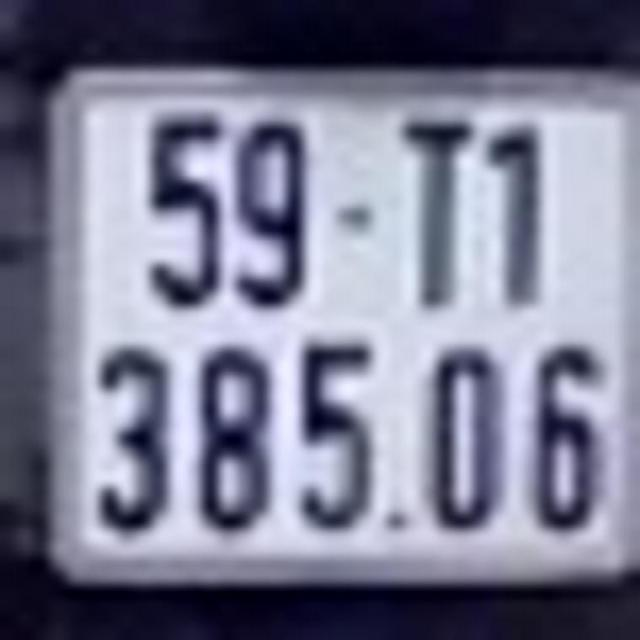0: (425, 338, 513, 532)
1: (484, 114, 558, 311)
3: (87, 338, 177, 532)
5: (140, 100, 226, 316), (290, 330, 378, 534)
6: (524, 334, 608, 532)
8: (190, 337, 280, 537)
9: (232, 118, 315, 308)
T: (396, 112, 478, 309)
